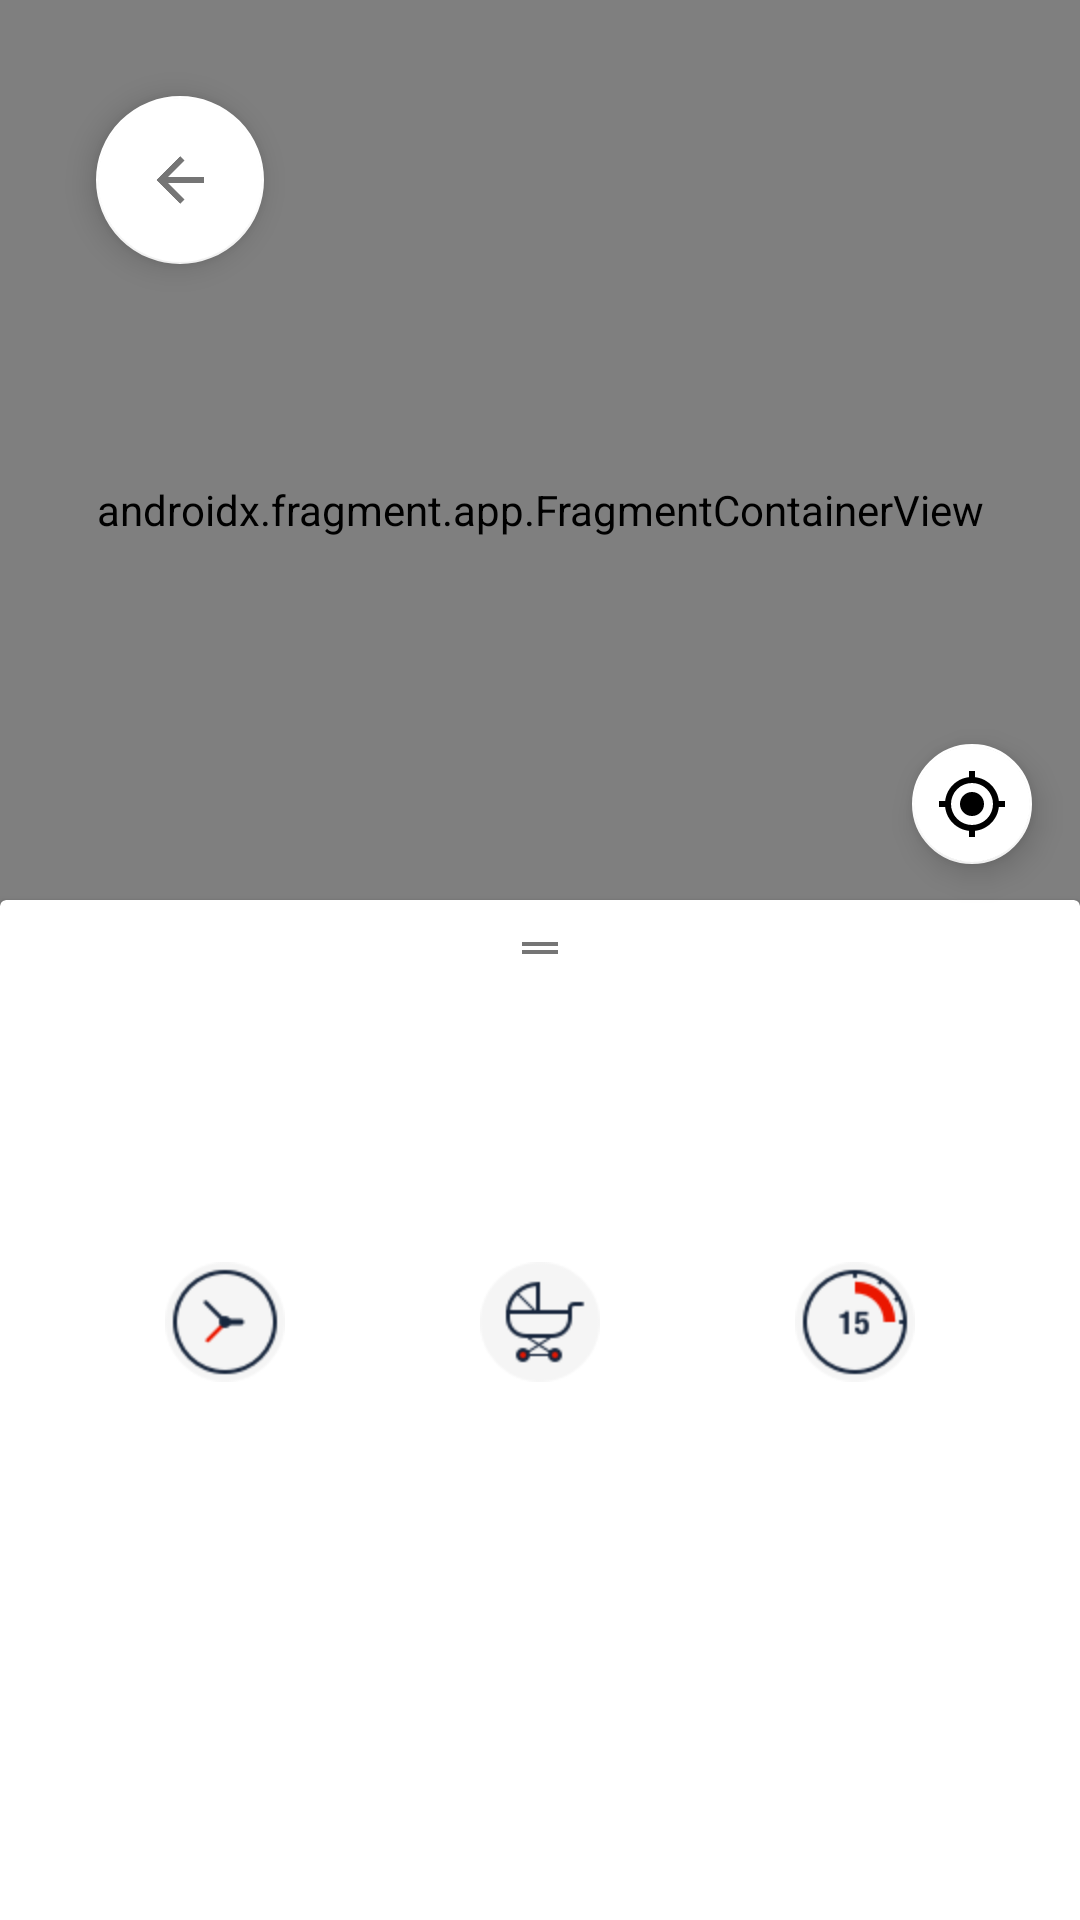

Screen size 1080×1920. Icon name, then its center in pixels as point (x, y):
arrow left: point (180, 180)
drag horizontal variant: point (540, 948)
opening hours: point (225, 1322)
visit duration: point (855, 1322)
